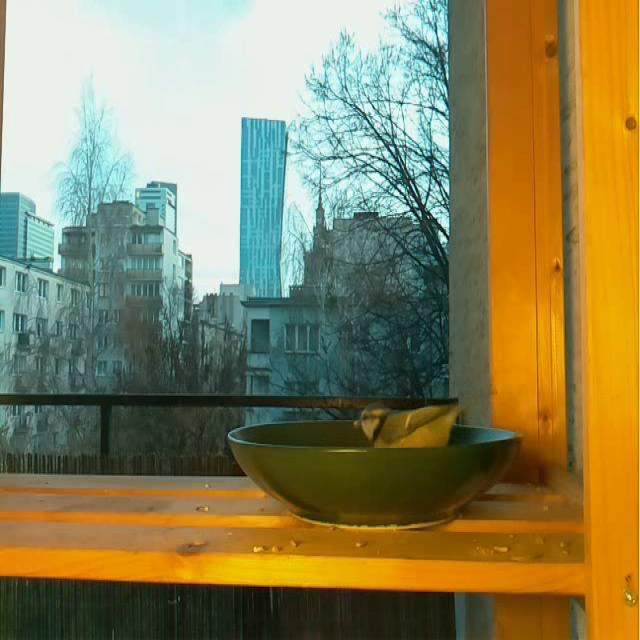Modraszka: (353, 394, 471, 450)
